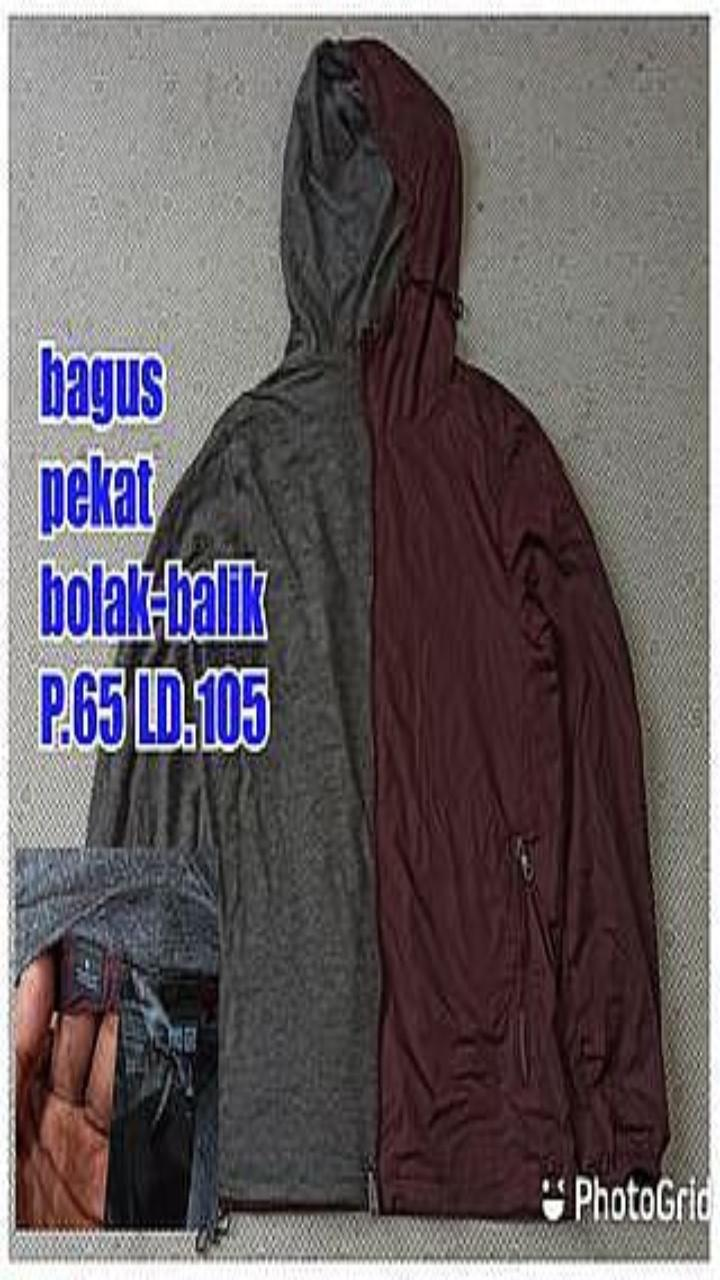Sports_Jacket: (87, 41, 667, 1215)
